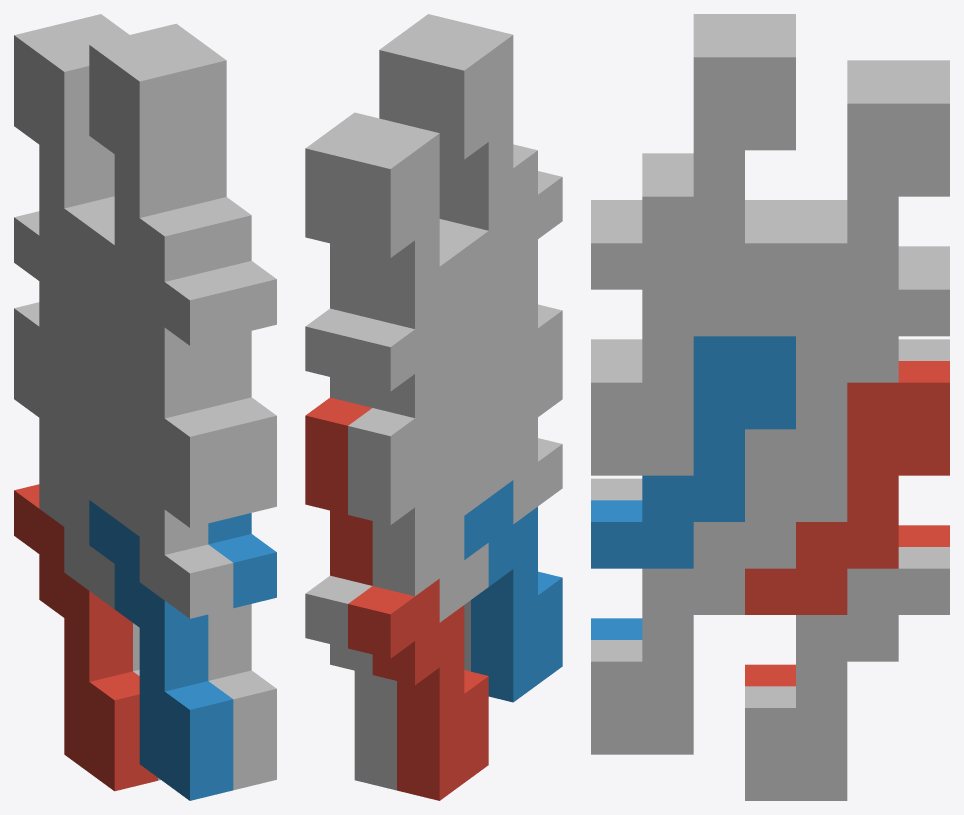
The model's file is tiling.obj.
3 views of the same model, side by side, from view 1: azimuth 30°, elevation 25°; view 2: azimuth 150°, elevation 25°; view 3: azimuth 270°, elevation 25° (orthographic). The views are drawn at different scales.
Parts seen in each view (by area): view 1: copy_2_domain_4, copy_1_domain_4, copy_1_domain_2, copy_2_domain_3, copy_1_domain_1, copy_2_domain_2, copy_2_domain_8, copy_1_domain_3, copy_2_domain_1, copy_1_domain_8, copy_1_domain_6, copy_2_domain_6 (+1 smaller); view 2: copy_1_domain_1, copy_2_domain_3, copy_2_domain_4, copy_2_domain_1, copy_1_domain_2, copy_1_domain_3, copy_1_domain_4, copy_2_domain_2, copy_2_domain_7, copy_1_domain_5, copy_2_domain_5, copy_2_domain_8 (+2 smaller); view 3: copy_2_domain_8, copy_2_domain_7, copy_1_domain_8, copy_1_domain_5, copy_2_domain_6, copy_1_domain_7, copy_2_domain_5, copy_1_domain_6, copy_2_domain_4, copy_2_domain_3, copy_1_domain_1, copy_1_domain_4 (+4 smaller).
Part boxes in pixels (box(x1,y1,x2,y2)): copy_2_domain_4: box(89, 34, 233, 345); copy_1_domain_4: box(89, 221, 233, 527); copy_1_domain_2: box(89, 500, 233, 800); copy_2_domain_3: box(14, 24, 114, 335); copy_1_domain_1: box(14, 484, 157, 791); copy_2_domain_2: box(89, 318, 233, 618); copy_2_domain_8: box(133, 23, 276, 335); copy_1_domain_3: box(14, 211, 114, 517); copy_2_domain_1: box(14, 302, 114, 608); copy_1_domain_8: box(208, 331, 276, 517); copy_1_domain_6: box(208, 604, 276, 790); copy_2_domain_6: box(208, 513, 276, 608); copy_1_domain_1: box(348, 578, 488, 800); copy_2_domain_3: box(348, 123, 488, 355); copy_2_domain_4: box(421, 24, 562, 256); copy_2_domain_1: box(348, 400, 488, 622); copy_1_domain_2: box(464, 480, 562, 702); copy_1_domain_3: box(348, 311, 488, 533); copy_1_domain_4: box(439, 213, 562, 434); copy_2_domain_2: box(464, 302, 562, 523); copy_2_domain_7: box(305, 112, 396, 318); copy_1_domain_5: box(305, 575, 396, 790); copy_2_domain_5: box(305, 397, 372, 585); copy_2_domain_8: box(379, 14, 470, 220); copy_2_domain_8: box(591, 35, 795, 289); copy_2_domain_7: box(745, 82, 949, 336); copy_1_domain_8: box(591, 221, 795, 475); copy_1_domain_5: box(745, 547, 949, 800); copy_2_domain_6: box(591, 336, 795, 568); copy_1_domain_7: box(745, 268, 949, 521); copy_2_domain_5: box(745, 361, 949, 614); copy_1_domain_6: box(591, 522, 795, 754); copy_2_domain_4: box(591, 14, 795, 221); copy_2_domain_3: box(796, 60, 949, 221); copy_1_domain_1: box(745, 525, 949, 686); copy_1_domain_4: box(591, 200, 795, 360).
Bounding box in the file's own units: 2 × 16 × 7.
